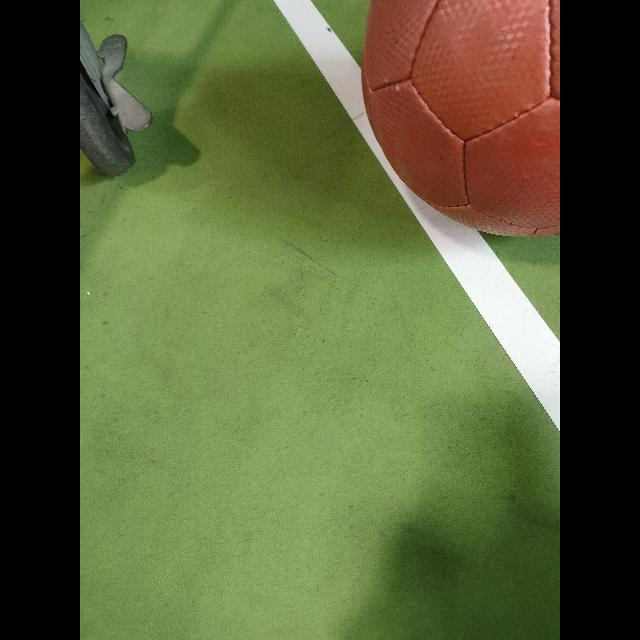R: (360, 1, 560, 237)
